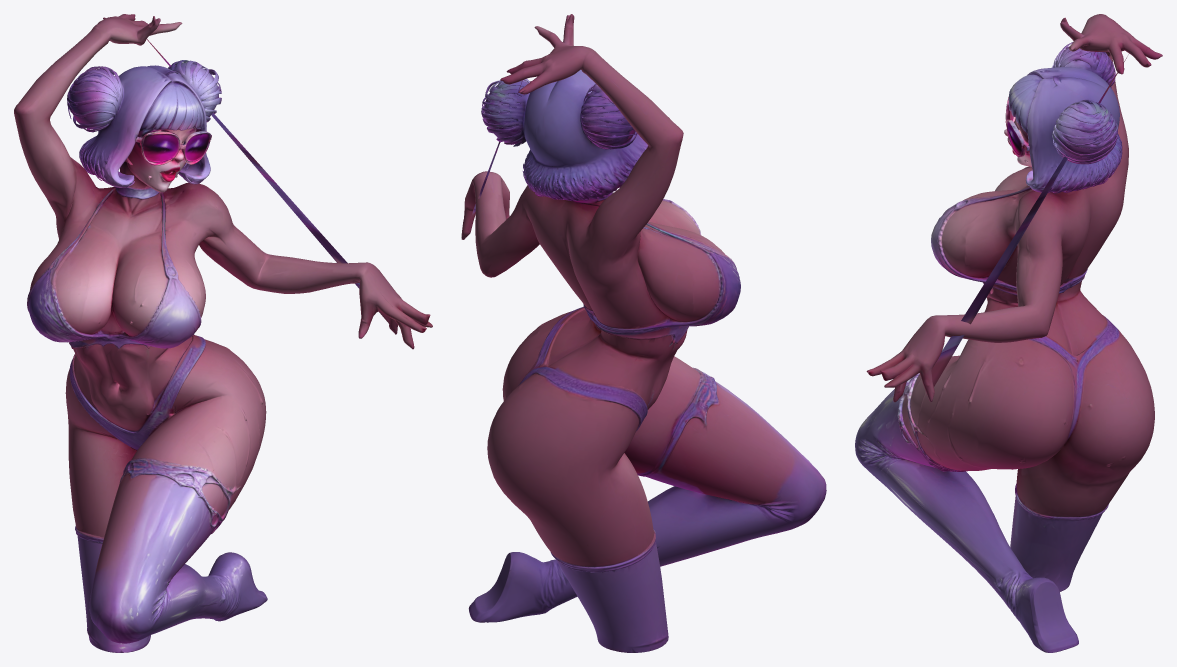
Rendered from girl-21.glb.
3 views of the same model, side by side, from view 1: azimuth 30°, elevation 25°; view 2: azimuth 150°, elevation 25°; view 3: azimuth 270°, elevation 25° (orthographic). The views are drawn at different scales.
Parts seen in each view (by area): view 1: node_0; view 2: node_0; view 3: node_0.
Boxes of the visible parts, x1,y1,x2,y2 form: node_0: [14, 14, 432, 652]; node_0: [461, 14, 826, 652]; node_0: [855, 14, 1162, 652].
Bounding box in the file's own units: 0.669 × 1.14 × 0.5452.
Materials: 1 (1 with a texture image).
